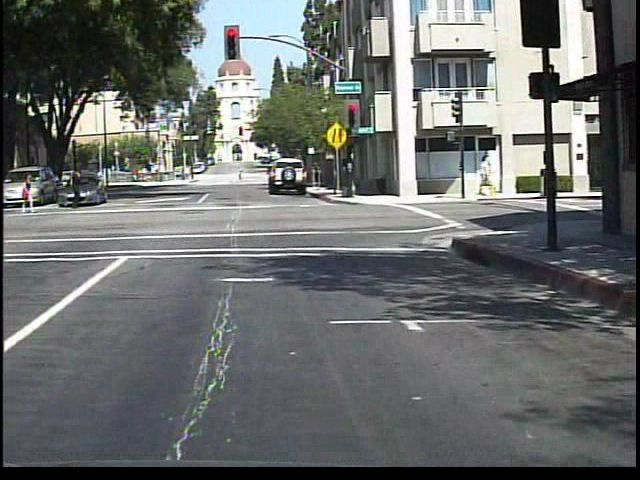person: (17, 170, 40, 218), (64, 168, 88, 210), (237, 167, 247, 184)
